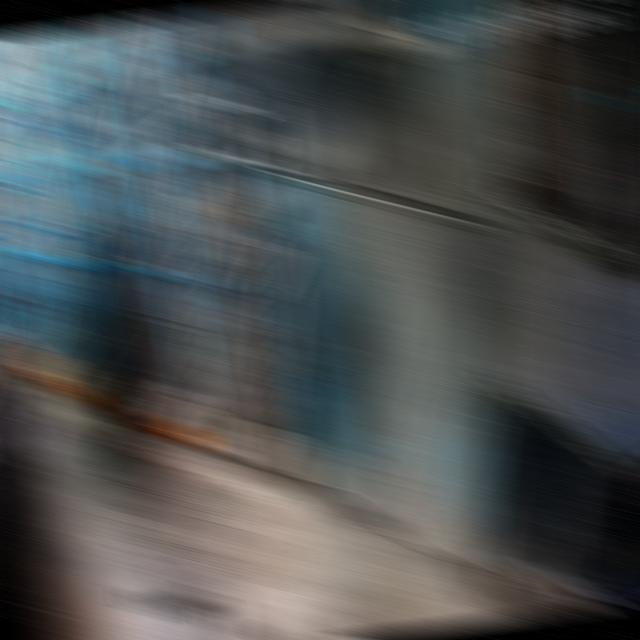cement_mixer_truck: (0, 228, 67, 505)
